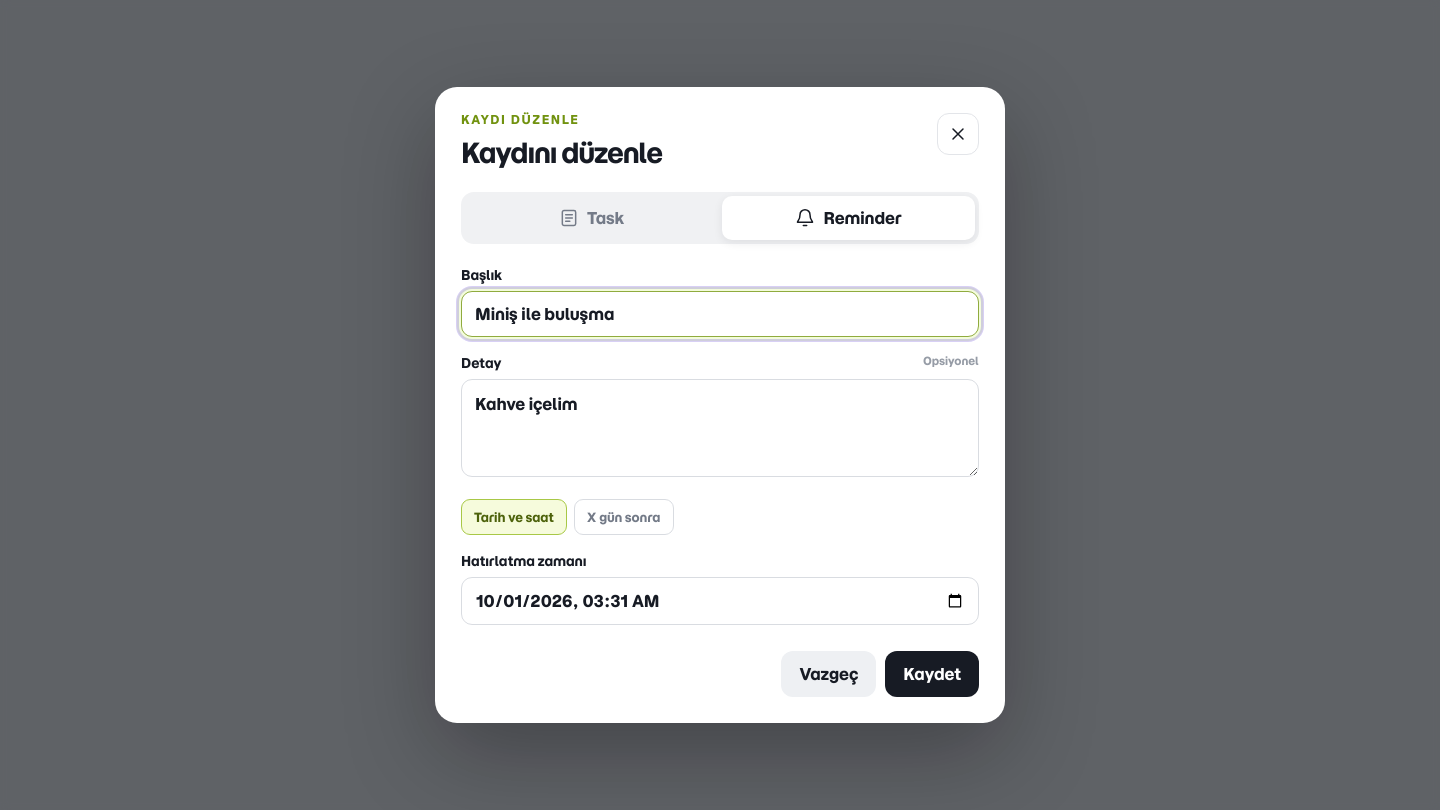
Test: editing items › rejects a newly chosen past reminder time
Replace the text in the field labelled "Hatırlatma zamanı" with "2020-01-01T12:00" at (720, 601), box top-left (461, 577), bottom-right (979, 625)
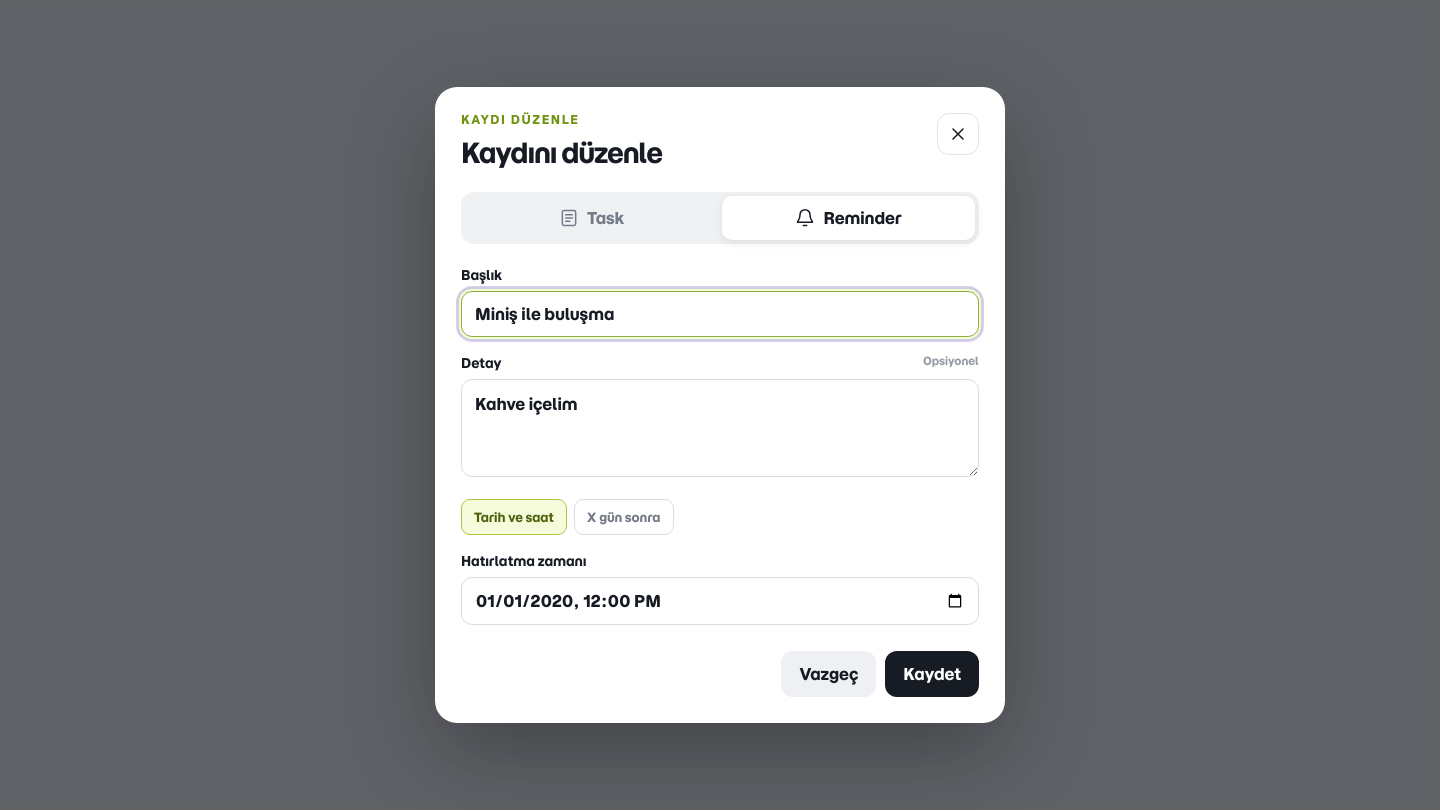
Click the button "Kaydet" at (932, 674), box top-left (885, 651), bottom-right (979, 697)
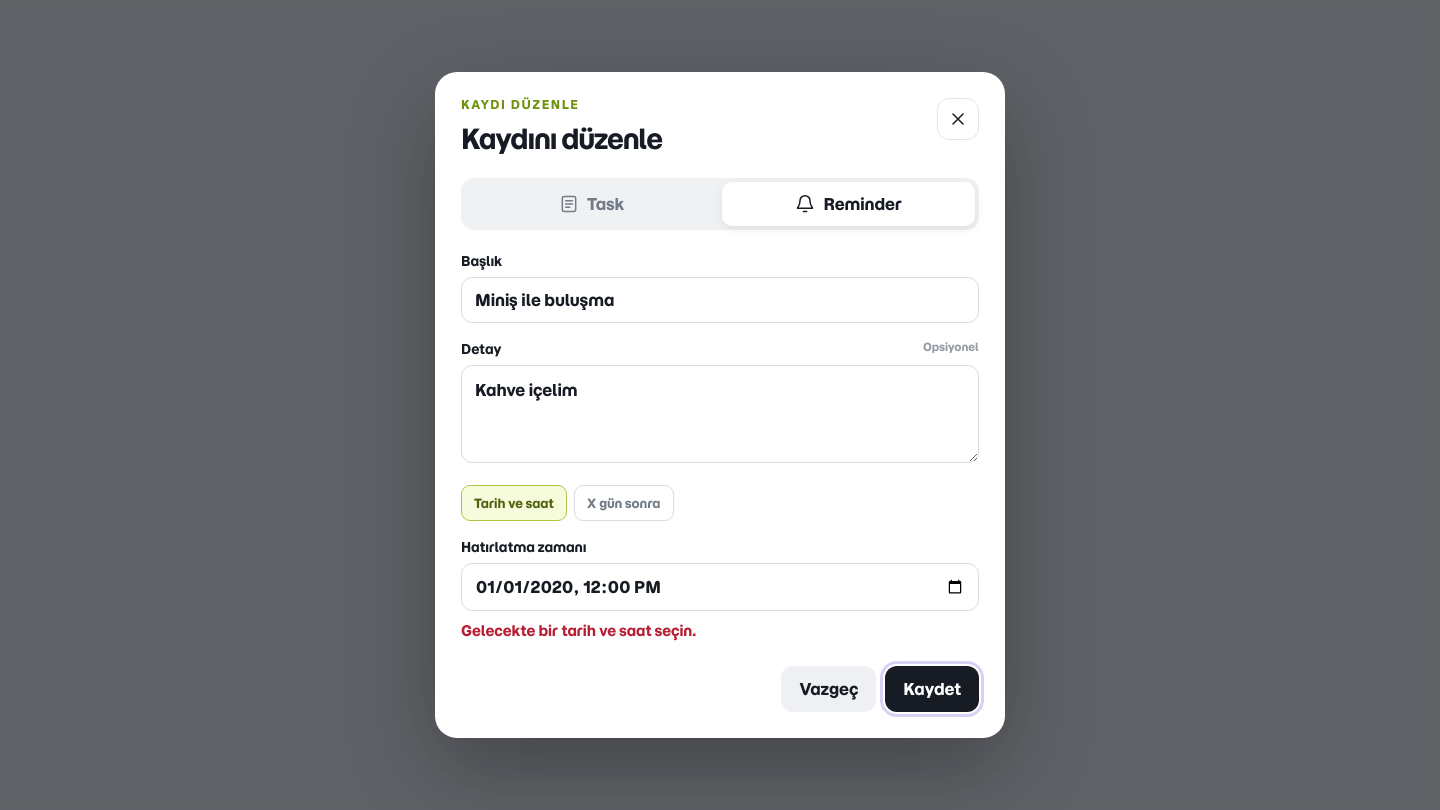
expect the message reads "Gelecekte bir tarih ve saat seçin.": met, box top-left (461, 621), bottom-right (696, 640)
